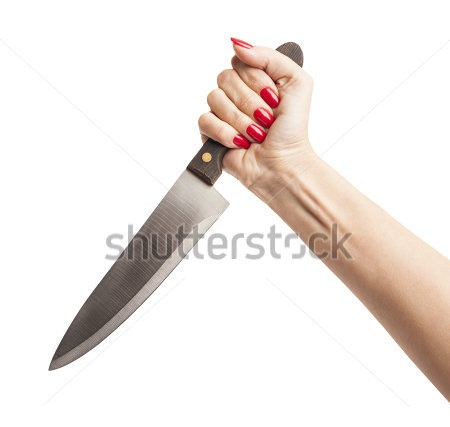knife: (40, 104, 276, 378)
